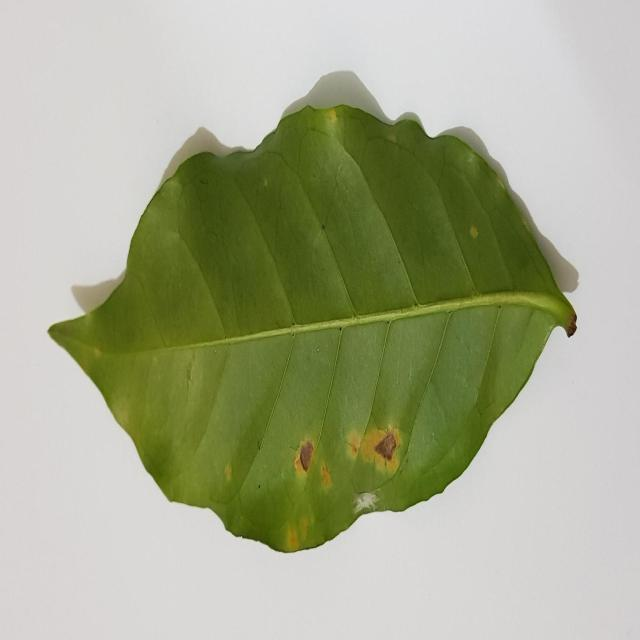rust: (349, 417, 413, 478), (291, 419, 324, 491), (282, 523, 304, 552)
